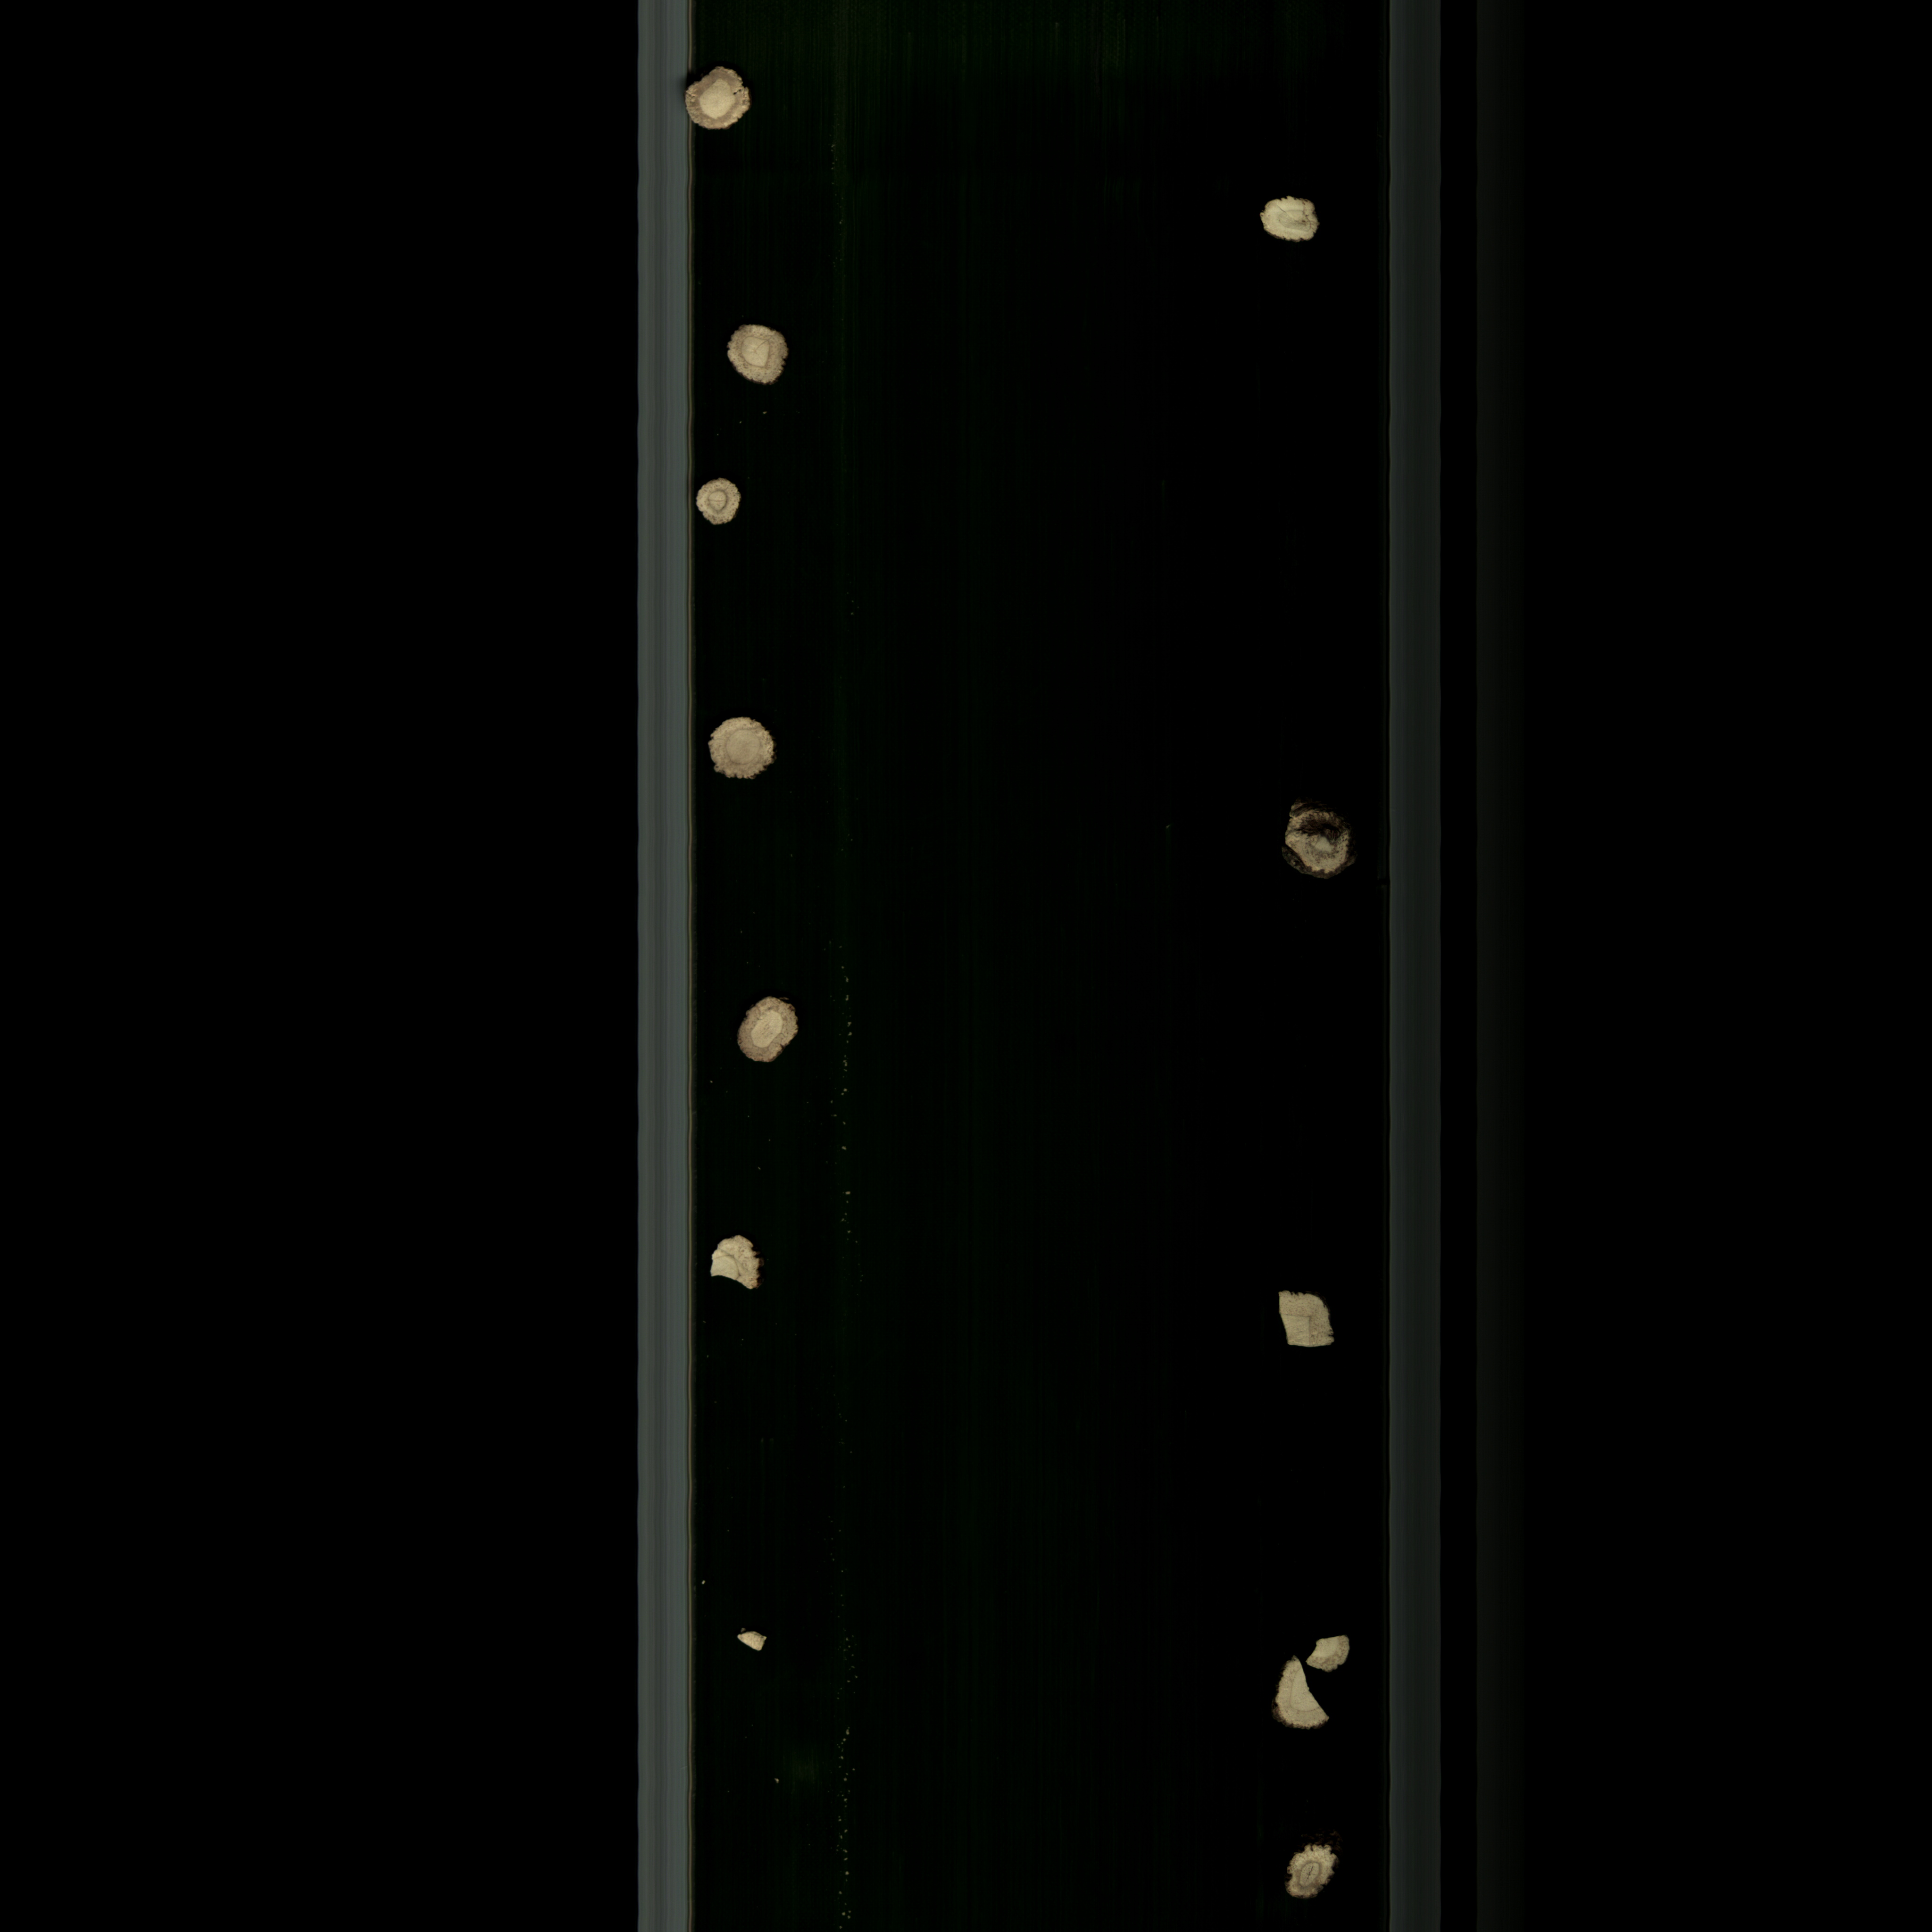bark: (1263, 789, 1368, 901)
debris: (1258, 1276, 1357, 1361), (1242, 1663, 1332, 1744), (692, 1221, 778, 1300)
dreg: (1299, 1621, 1357, 1677), (736, 1626, 784, 1660)
moldy: (715, 308, 814, 400), (731, 984, 810, 1076), (676, 67, 766, 136), (1276, 1826, 1348, 1904), (1253, 191, 1339, 249), (681, 476, 755, 534)
